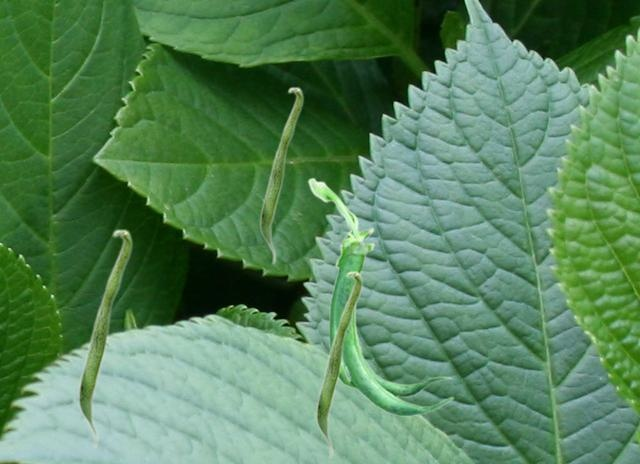french_bean: (307, 177, 453, 416), (77, 228, 132, 448), (315, 270, 362, 458), (259, 86, 303, 264)
